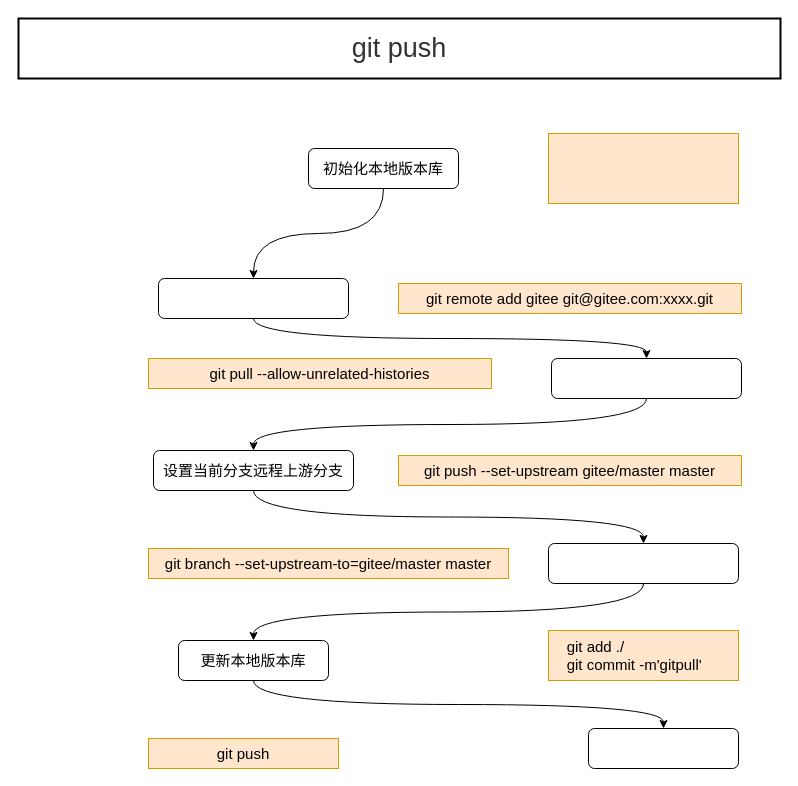
Image size: 798x786. Some labels were removed from this diagram. Each missing label, with the centre of its shape:
"git init git add ./ git commit -m'git_init'" belongs at pixel 643 168.
"将本地库与远程库相关联" belongs at pixel 253 298.
"拉取远程版本" belongs at pixel 646 378.
"推送更新" belongs at pixel 663 748.
"链接本地分支和远程分支" belongs at pixel 643 563.
